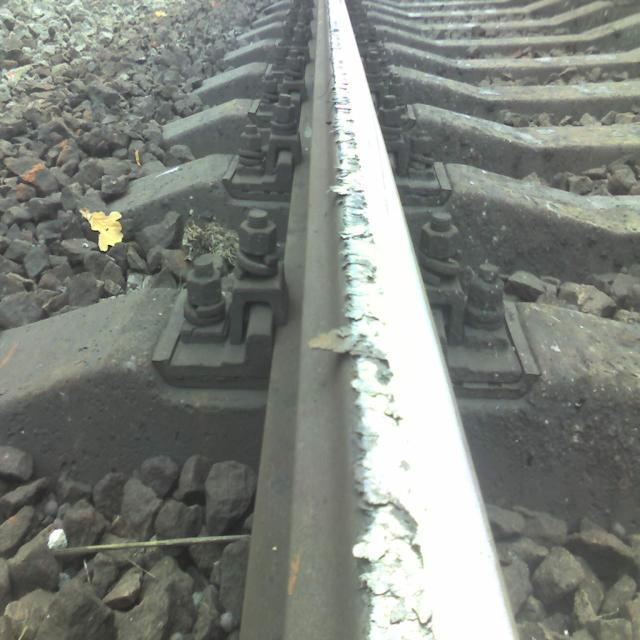head_checks_high: (339, 102, 381, 622)
